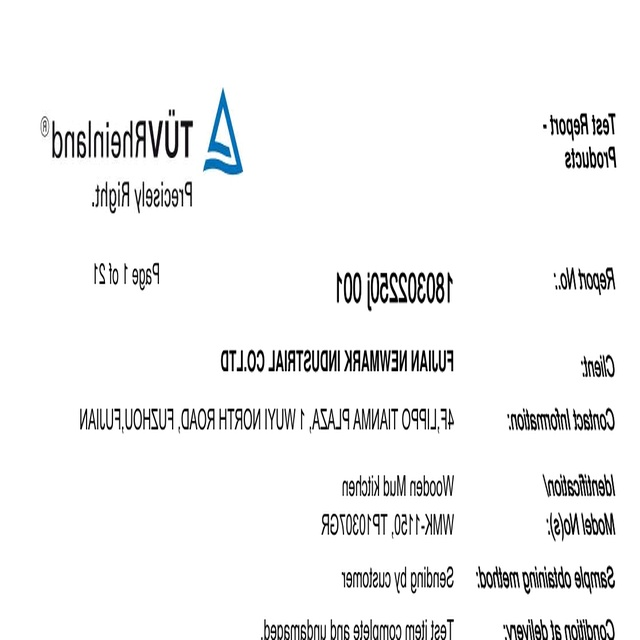tuv_rheinland: (36, 87, 246, 181)
